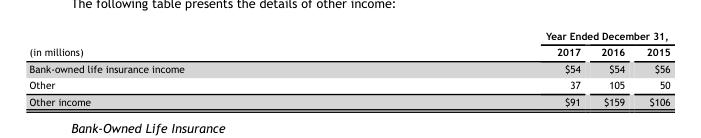table: (28, 29, 669, 106)
table column: (28, 29, 364, 106), (364, 29, 590, 106), (590, 29, 634, 106), (634, 29, 669, 106)
table column header: (28, 29, 669, 60)
table row: (28, 43, 669, 60), (28, 60, 669, 76), (28, 76, 669, 92), (28, 29, 669, 43), (28, 92, 669, 106)
table spanning cell: (28, 29, 364, 60), (364, 29, 669, 43)
